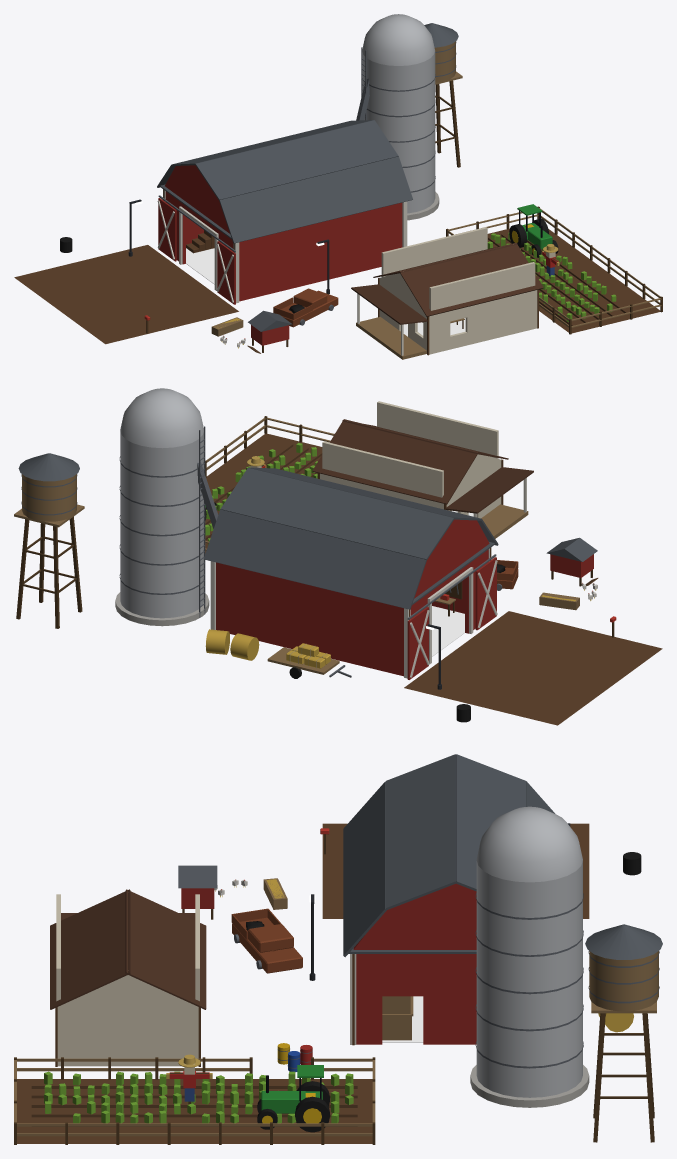
The model's file is tf-ranch-p5.glb.
3 renders of one model, top to bottom at view 1: azimuth 30°, elevation 25°; view 2: azimuth 150°, elevation 25°; view 3: azimuth 270°, elevation 25°, orthographic. The views are drawn at different scales.
Visible parts, largest first — view 1: tf-ranch-p5; view 2: tf-ranch-p5; view 3: tf-ranch-p5.
Part boxes in pixels (x1,y1,x2,y2): tf-ranch-p5: (14,14,662,359); tf-ranch-p5: (14,388,662,725); tf-ranch-p5: (14,754,662,1144).
Size of the model in its own units: 37.17 by 14.72 by 31.67.
